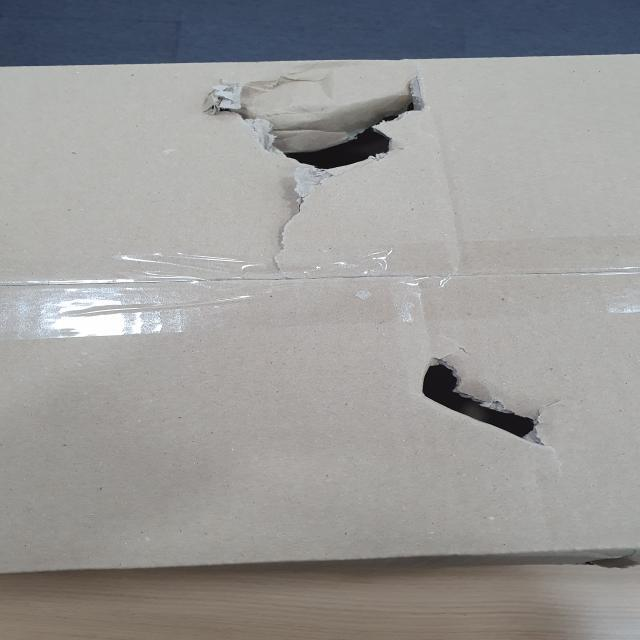hole: (214, 73, 442, 183), (395, 353, 555, 449)
